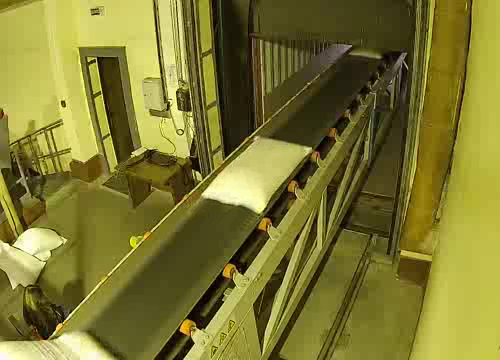bag: (193, 131, 321, 221), (0, 321, 132, 360), (345, 44, 390, 60)
